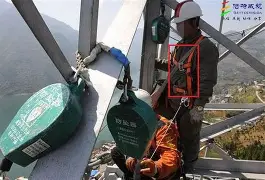safety belt: (168, 45, 199, 96)
